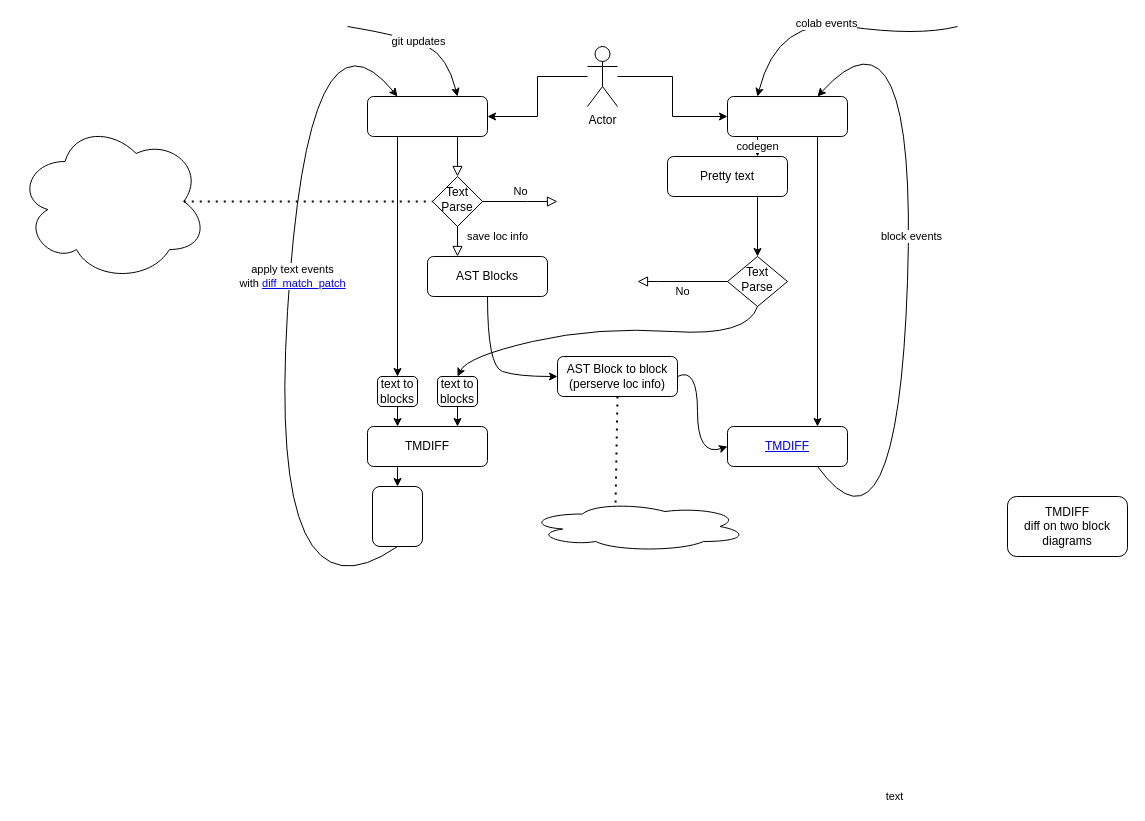
The diagram is 1145 pixels wide and 821 high, and some of its shapes have lost their labels. Each missing label, with the box of its shape:
block events to text events: (372, 486, 422, 546)
Parse with Rascal, Lark, ANTRL, ... generate block and keep locations: (16, 120, 208, 282)
User Blocks: (726, 96, 848, 136)
User txt: (366, 96, 488, 136)
Using the block-visitor: (526, 500, 748, 552)
